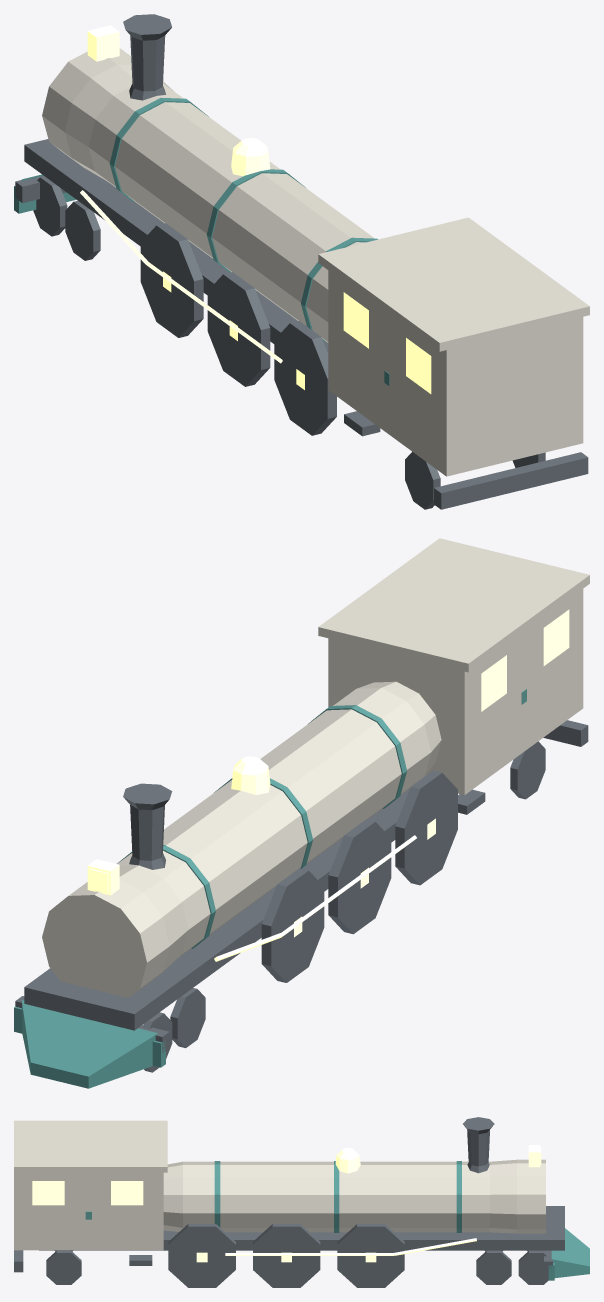
Rendered from 67-Vehiculos_gran_vapor.glb.
3 views of the same model, one above another, from view 1: azimuth 30°, elevation 25°; view 2: azimuth 150°, elevation 25°; view 3: azimuth 270°, elevation 25° (orthographic). The views are drawn at different scales.
Parts seen in each view (by area): view 1: SM_Vapor_M_Vapor_Marfil, SM_Vapor_M_Vapor_Hierro, SM_Vapor_M_Vapor_Laton, SM_Vapor_M_Vapor_Verde; view 2: SM_Vapor_M_Vapor_Marfil, SM_Vapor_M_Vapor_Hierro, SM_Vapor_M_Vapor_Verde, SM_Vapor_M_Vapor_Laton; view 3: SM_Vapor_M_Vapor_Marfil, SM_Vapor_M_Vapor_Hierro, SM_Vapor_M_Vapor_Laton, SM_Vapor_M_Vapor_Verde.
Part boxes in pixels (<box>): SM_Vapor_M_Vapor_Marfil: <box>42,48,589,476</box>; SM_Vapor_M_Vapor_Hierro: <box>15,14,588,509</box>; SM_Vapor_M_Vapor_Laton: <box>80,25,431,393</box>; SM_Vapor_M_Vapor_Verde: <box>14,97,389,386</box>; SM_Vapor_M_Vapor_Marfil: <box>42,538,589,997</box>; SM_Vapor_M_Vapor_Hierro: <box>15,720,588,1072</box>; SM_Vapor_M_Vapor_Verde: <box>14,689,526,1088</box>; SM_Vapor_M_Vapor_Laton: <box>87,609,569,961</box>; SM_Vapor_M_Vapor_Marfil: <box>14,1120,545,1250</box>; SM_Vapor_M_Vapor_Hierro: <box>14,1117,564,1287</box>; SM_Vapor_M_Vapor_Laton: <box>32,1145,541,1262</box>; SM_Vapor_M_Vapor_Verde: <box>85,1161,589,1280</box>.
Bounding box in the file's own units: 2.86 × 4.13 × 15.
